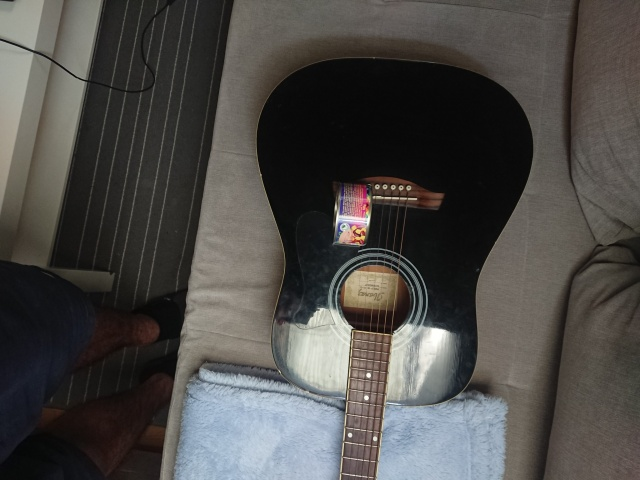Giana Tuna Salad Mexico 185g: (329, 177, 375, 250)
